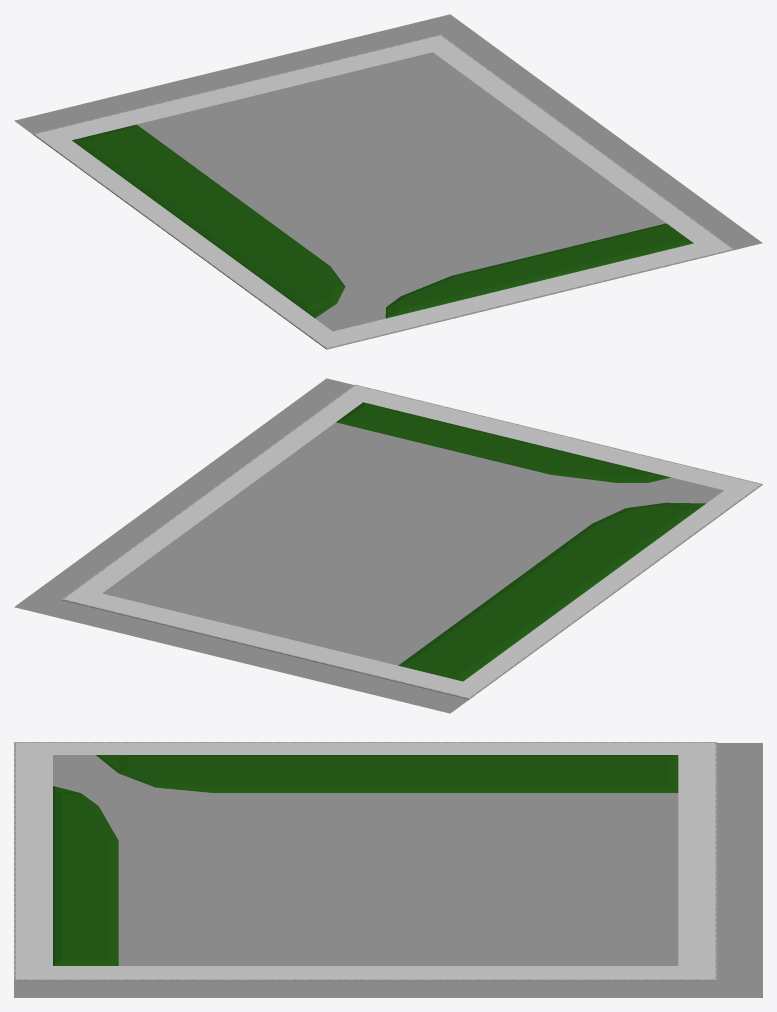
File: street_section4_1.FBX
3 renders of one model, top to bottom at view 1: azimuth 30°, elevation 25°; view 2: azimuth 150°, elevation 25°; view 3: azimuth 270°, elevation 25°, orthographic. The views are drawn at different scales.
Visible parts, largest first — view 1: concrete, street_section4_1, grass; view 2: concrete, street_section4_1, grass; view 3: concrete, street_section4_1, grass.
Part boxes in pixels (x1,y1,x2,y2): concrete: [137, 52, 665, 331]; street_section4_1: [14, 14, 762, 349]; grass: [72, 124, 693, 318]; concrete: [102, 422, 723, 665]; street_section4_1: [14, 378, 762, 713]; grass: [336, 402, 705, 681]; concrete: [53, 755, 678, 965]; street_section4_1: [14, 742, 762, 997]; grass: [53, 755, 678, 965].
Size of the model in its own units: 6857 by 40.18 by 8511.
